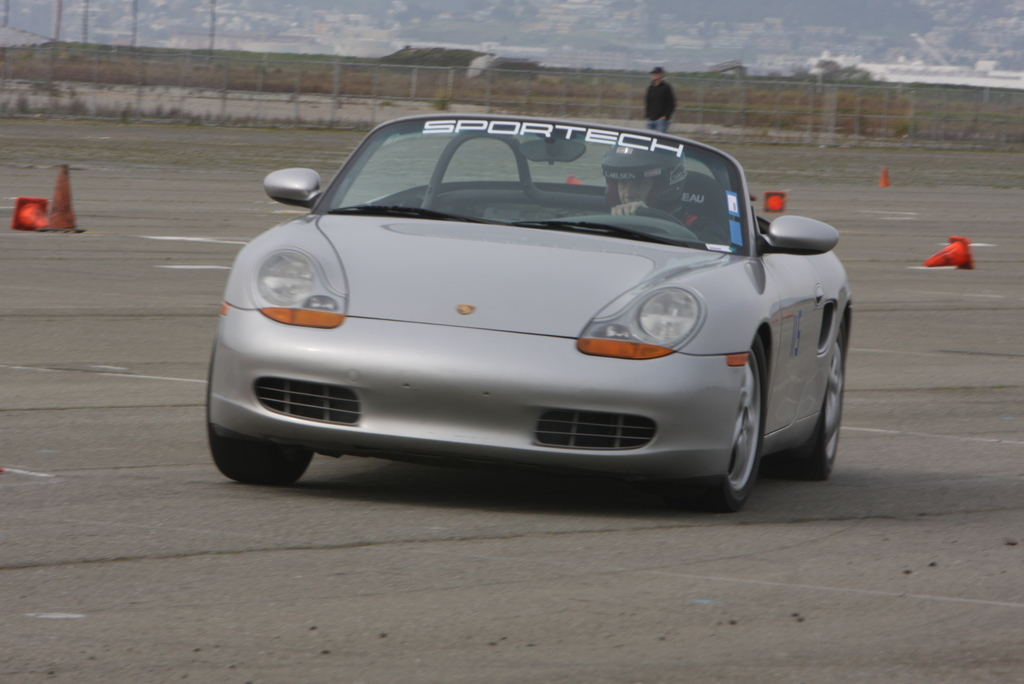Car: (202, 112, 859, 509)
